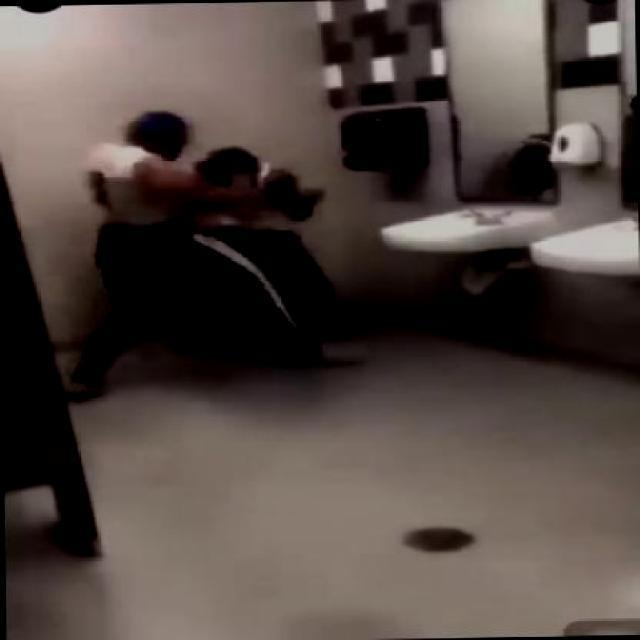fight: (78, 103, 360, 368)
